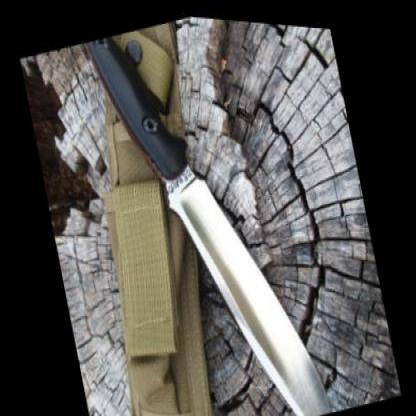knife: (147, 109, 336, 412)
